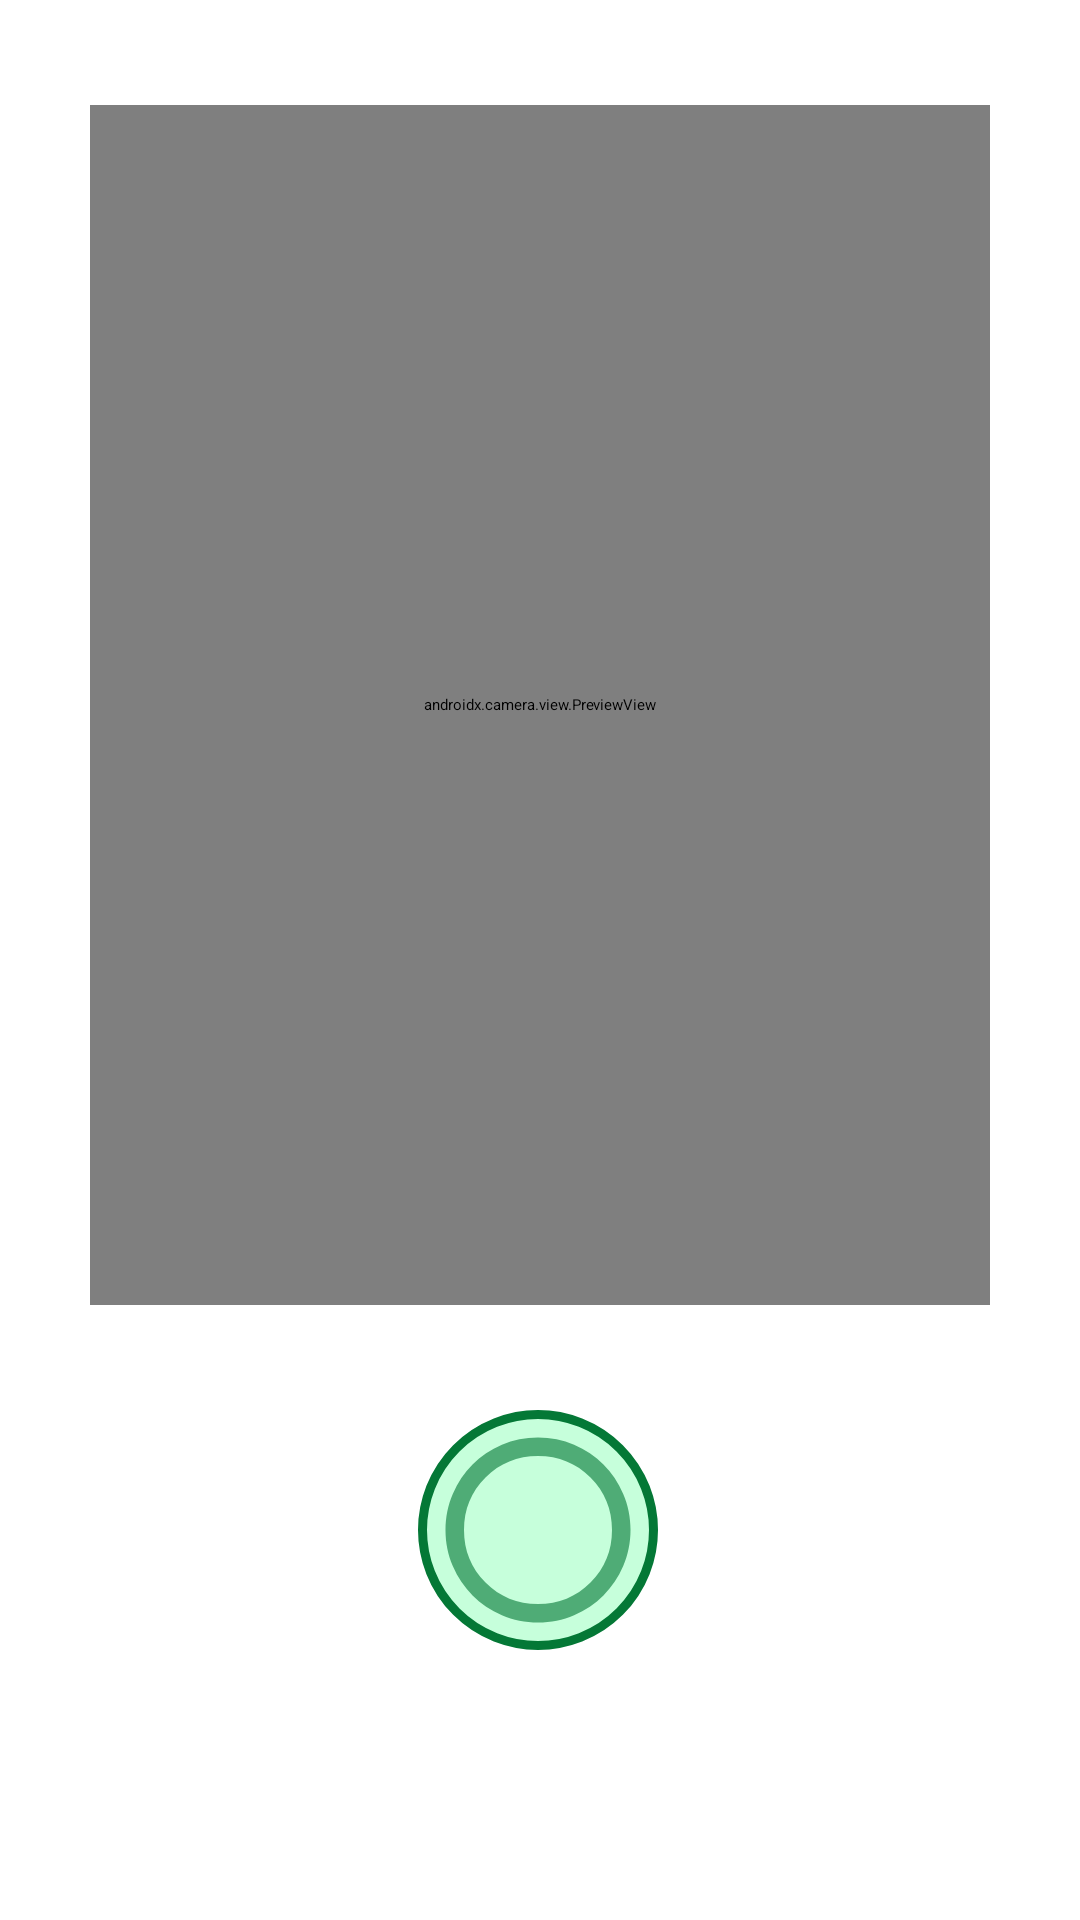

Point at icon controls on the screen. Image size 1080 x 1920, points as (x=x, y=y).
cambtn: (x=538, y=1530)
